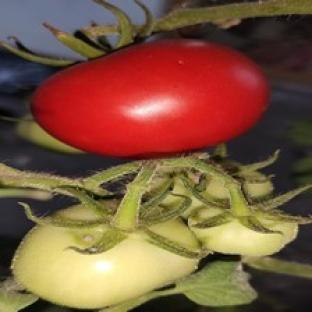Tomato: (31, 39, 268, 157), (13, 226, 197, 309), (189, 208, 298, 256), (16, 115, 82, 153)
